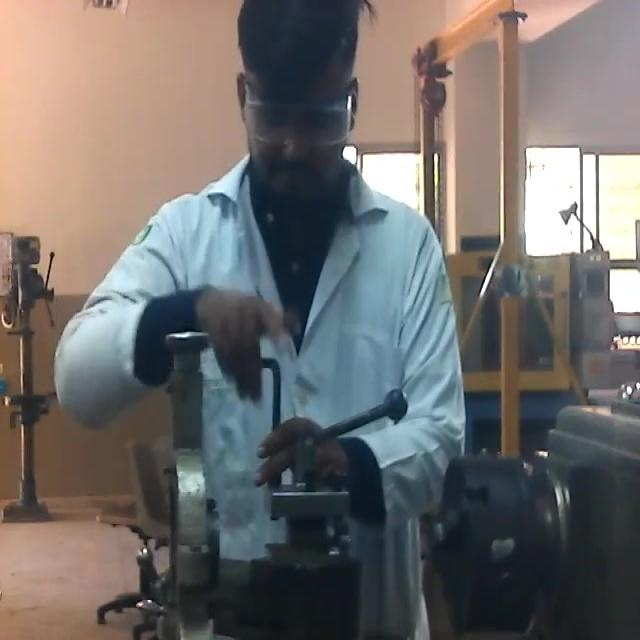googles: (246, 92, 350, 153)
labcoat: (54, 153, 465, 640)
